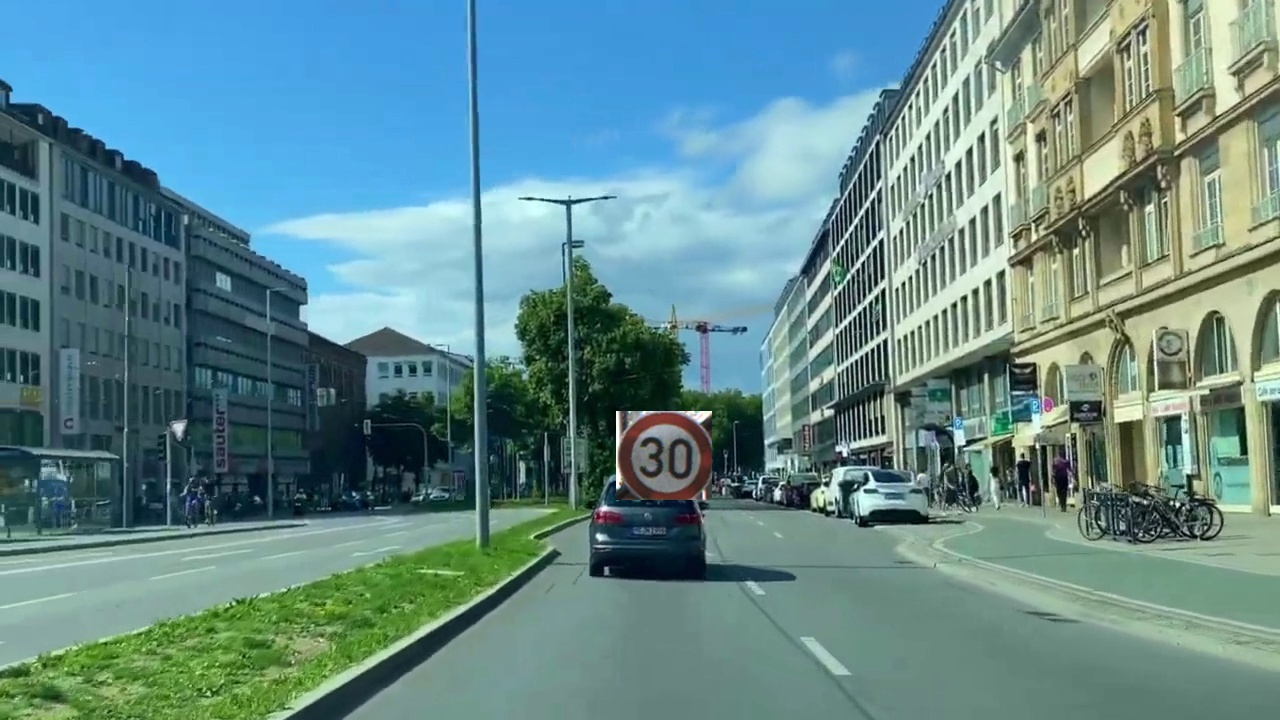Speed 30: (616, 411, 712, 500)
